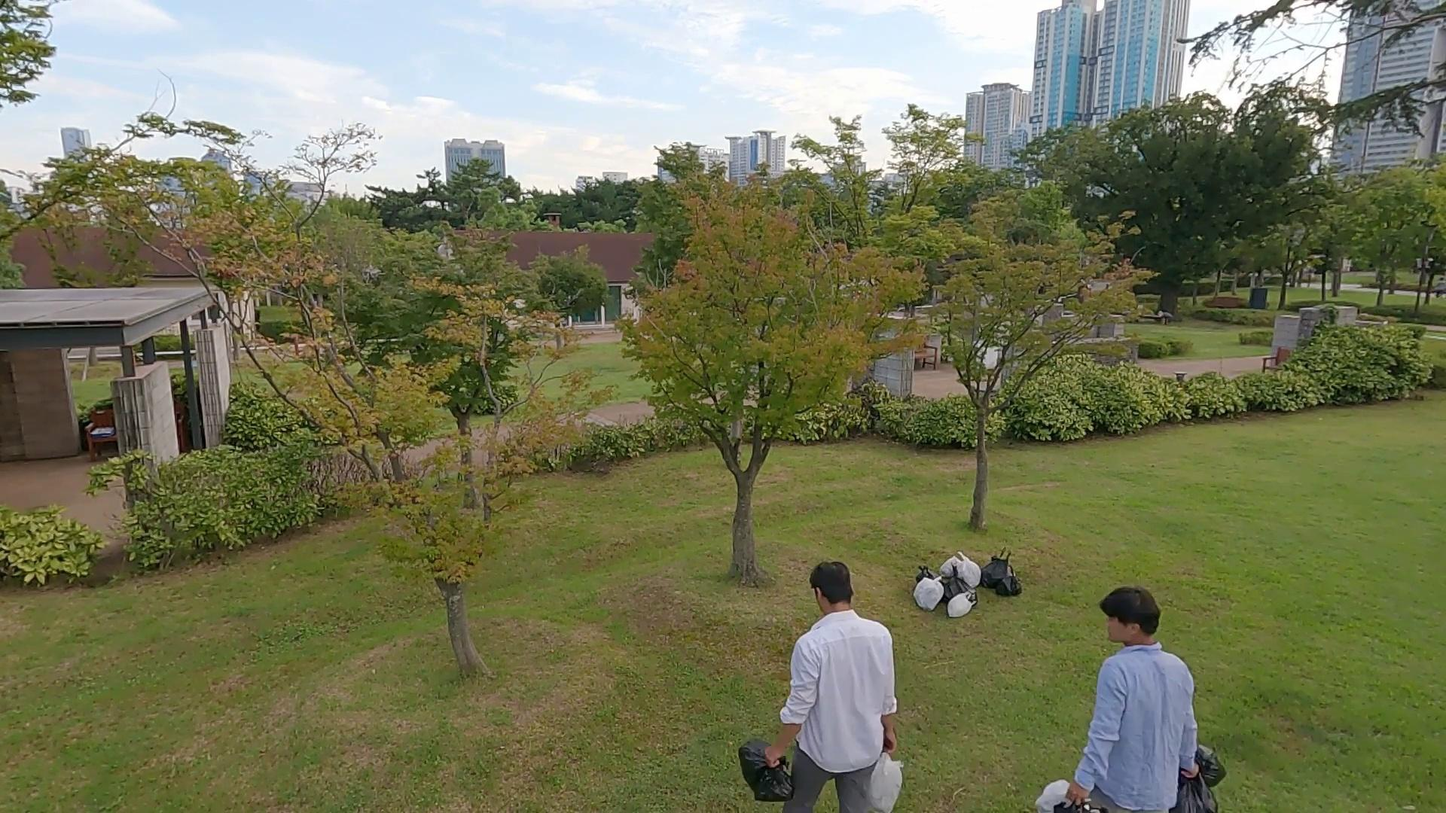person: (764, 559, 899, 813), (1066, 584, 1201, 813)
trash: (736, 734, 797, 804), (866, 749, 906, 813), (938, 550, 983, 588), (1195, 743, 1226, 787), (1188, 771, 1218, 813), (983, 546, 1013, 587), (1035, 778, 1070, 813), (946, 565, 977, 602), (913, 576, 944, 612), (944, 589, 978, 619), (1172, 780, 1201, 813), (909, 565, 940, 586), (997, 574, 1022, 597)
